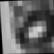correct: (8, 0, 54, 54)
